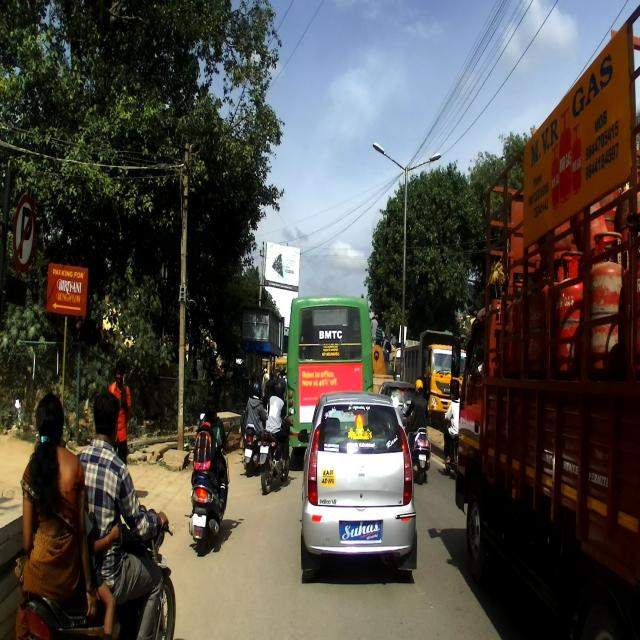Car_TATA: (295, 391, 419, 574)
bus: (288, 295, 373, 415)
motorcycle_Hero: (22, 506, 177, 638)
motorcycle_bajaj: (258, 408, 295, 494)
scooter: (188, 415, 235, 550), (401, 402, 432, 484)
truck: (449, 1, 639, 638), (406, 331, 456, 415)
